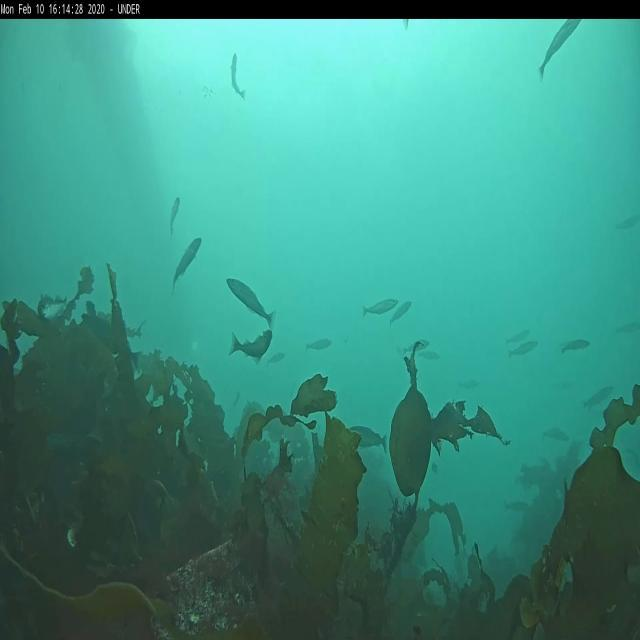fish: (536, 18, 584, 82), (226, 278, 276, 331), (172, 238, 203, 290), (228, 332, 272, 364), (341, 424, 388, 452), (582, 385, 614, 411), (363, 297, 398, 319), (230, 53, 244, 99), (389, 299, 411, 327), (508, 339, 538, 358), (562, 338, 590, 356), (616, 211, 639, 232), (542, 426, 568, 444), (404, 338, 429, 356), (504, 498, 530, 514), (506, 329, 530, 346), (170, 197, 180, 236), (267, 350, 286, 368), (308, 338, 333, 351), (416, 351, 438, 362), (458, 380, 478, 392)
